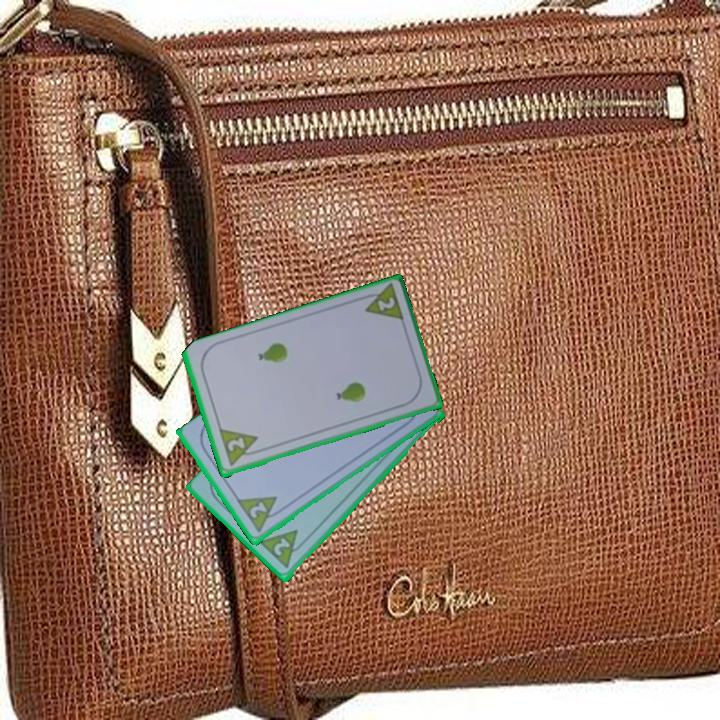2p: (356, 282, 407, 325), (270, 535, 293, 559), (246, 499, 270, 522), (223, 434, 248, 455)
